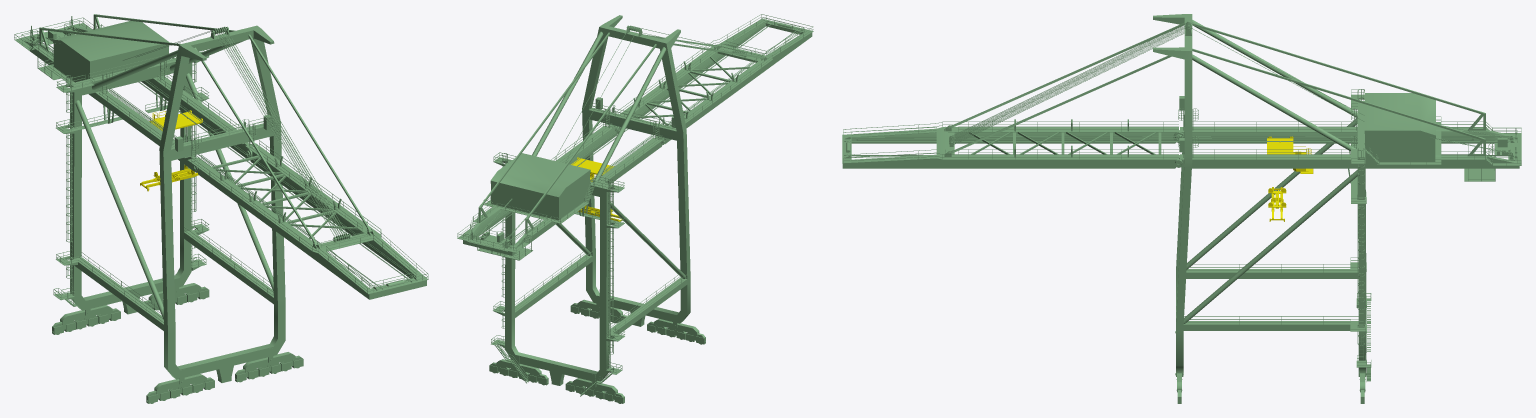
Rendered from sts_crane.glb.
3 renders of one model, left to right at view 1: azimuth 30°, elevation 25°; view 2: azimuth 150°, elevation 25°; view 3: azimuth 270°, elevation 25°, orthographic. The views are drawn at different scales.
Parts seen in each view (by area): view 1: Panamax_Crane, Cabin; view 2: Panamax_Crane, Cabin; view 3: Panamax_Crane, Cabin.
Boxes of the visible parts, x1,y1,x2,y2 form: Panamax_Crane: (14,14,428,403); Cabin: (149,110,202,130); Panamax_Crane: (457,14,813,403); Cabin: (571,157,614,181); Panamax_Crane: (842,14,1521,403); Cabin: (1267,136,1313,173).
Bounding box in the file's own units: 2995 × 6500 × 11632.
